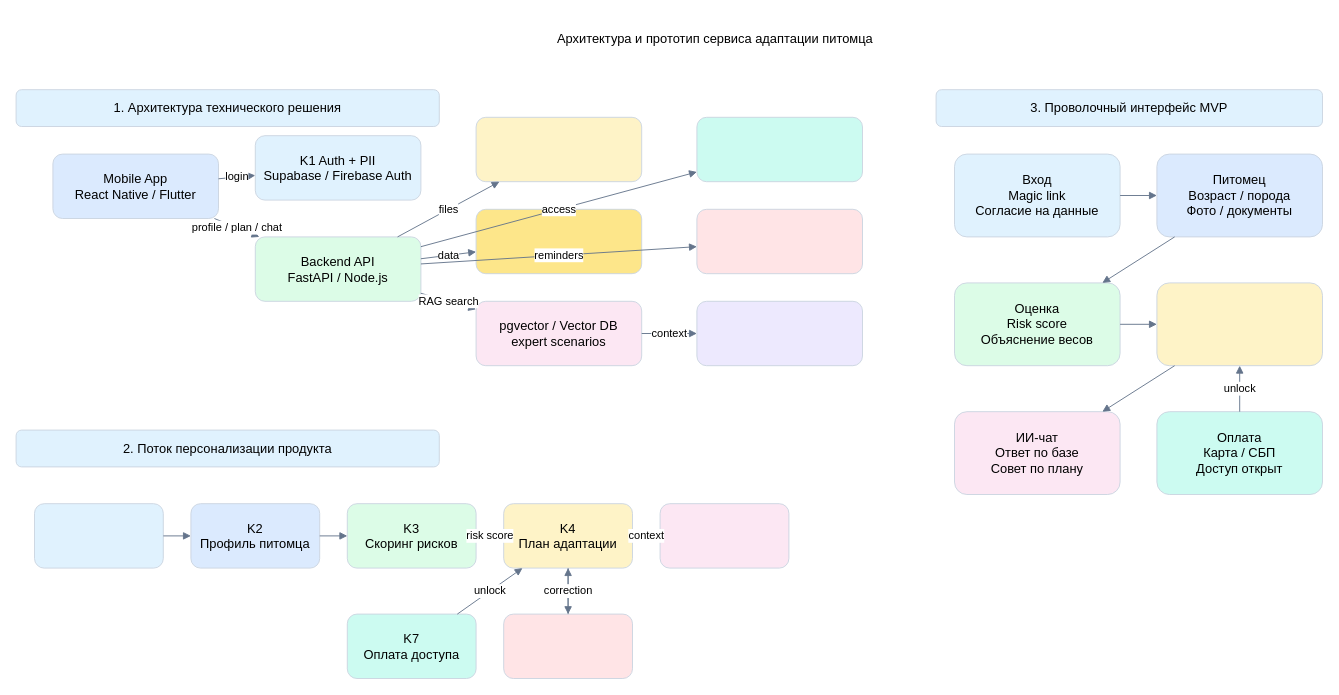
Image size: 1339x695. Some labels were removed from this diagram. Here are the shapes that lost their labels. From the top down, the centre of each, then its label:
At [558,149]: "Object Storage S3-compatible".
At [779,149]: "Payments ЮKassa / CloudPayments".
At [558,241]: "PostgreSQL profiles, plans, payments".
At [779,241]: "Notifications FCM + APNS / OneSignal".
At [779,333]: "Commercial LLM API OpenAI / Anthropic".
At [1239,324]: "План 7 / 30 / 90 дней Задачи и напоминания".
At [98,535]: "K1 Регистрация".
At [724,535]: "K5 ИИ-чат + сценарии".
At [567,645]: "K6 Мониторинг".
